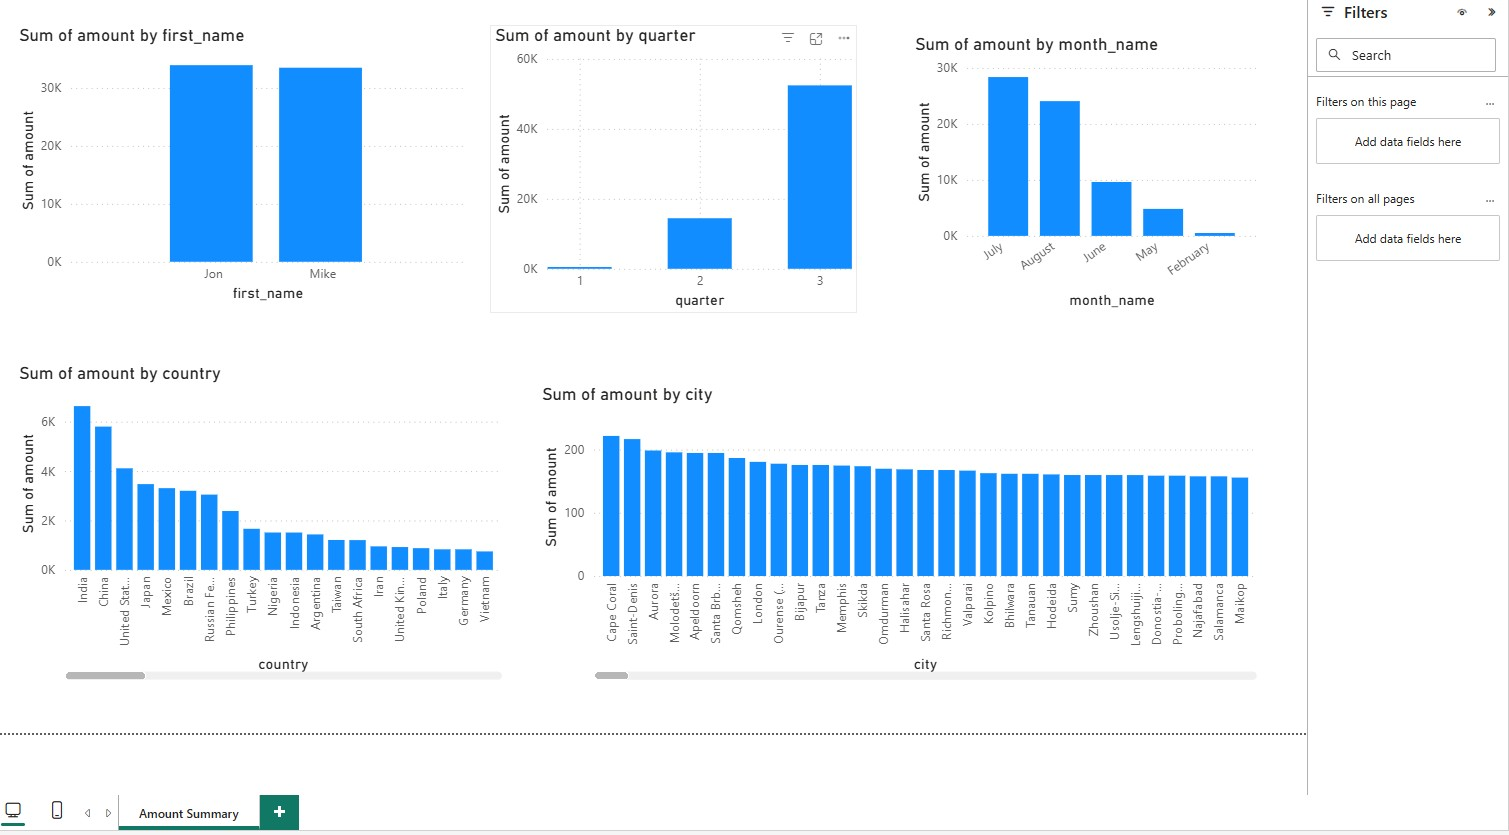

This screenshot's page, from the dashboard's own definition file:
{"tool":"powerbi","page":{"name":"Amount Summary","canvas":[1280,720],"ordinal":0},"visuals":[{"type":"columnChart","fields":{"Category":["dim_staff.first_name"],"Y":["Sum(fact_payment.amount)"]},"box":[22.4,31.1,443.5,273.3],"z":0},{"type":"columnChart","fields":{"Y":["Sum(fact_payment.amount)"],"Category":["dim_customer.country"]},"box":[22.4,359.9,479.5,313.2],"z":2},{"type":"columnChart","fields":{"Y":["Sum(fact_payment.amount)"],"Category":["dim_customer.city"]},"box":[531.1,380.3,705.2,292.8],"z":3},{"type":"columnChart","fields":{"Y":["Sum(fact_payment.amount)"],"Category":["dim_date.quarter"]},"box":[485.3,31.1,357,280.1],"z":4},{"type":"columnChart","fields":{"Y":["Sum(fact_payment.amount)"],"Category":["dim_date.month_name"]},"box":[893.9,39.9,342.4,271.4],"z":5}]}

Visuals, with their boxes on the page's 1280x720 design canvas (x1, y1, x2, y2). These are canvas units, not pixel positions in the 1509x835 screenshot, which may show the page scaled, cropped or inside an application window:
columnChart - dim_staff.first_name x Sum(fact_payment.amount): detection(22, 31, 466, 304)
columnChart - Sum(fact_payment.amount) x dim_customer.country: detection(22, 360, 502, 673)
columnChart - Sum(fact_payment.amount) x dim_customer.city: detection(531, 380, 1236, 673)
columnChart - Sum(fact_payment.amount) x dim_date.quarter: detection(485, 31, 842, 311)
columnChart - Sum(fact_payment.amount) x dim_date.month_name: detection(894, 40, 1236, 311)
